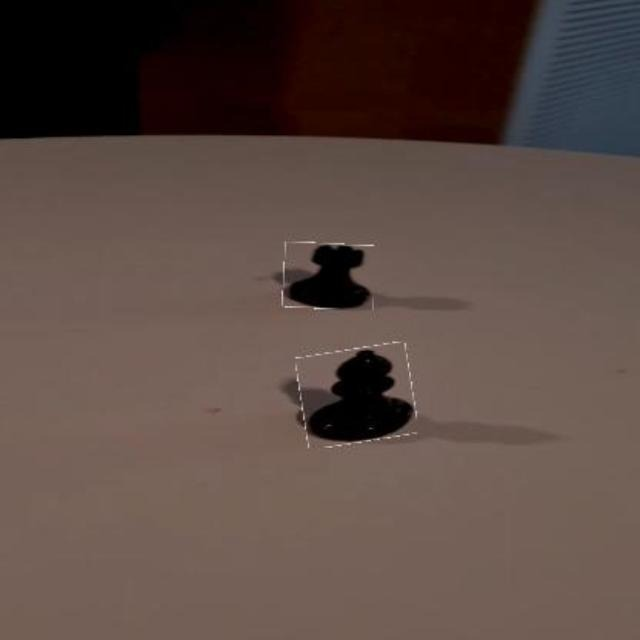black-bishop: (299, 345, 415, 445)
black-pawn: (282, 244, 374, 310)
